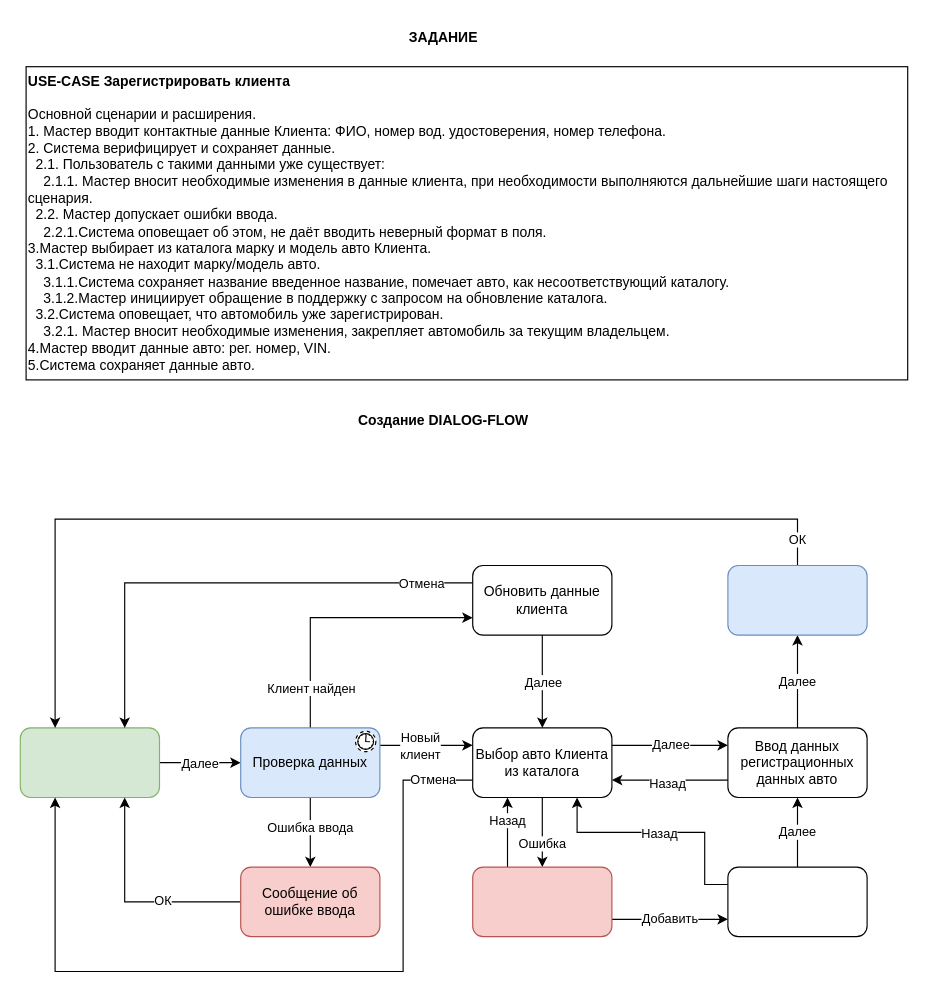
Image size: 928x1001. Some labels were removed from this diagram. The shapes that lost their labels are listed below. From the top down, each one's centre as x and y in pixels, then its label:
[797,599]: Данные сохранены
[89,762]: Ввод данных клиента
[542,901]: Авто не найден в классификаторе
[797,901]: Форма отправки запроса
